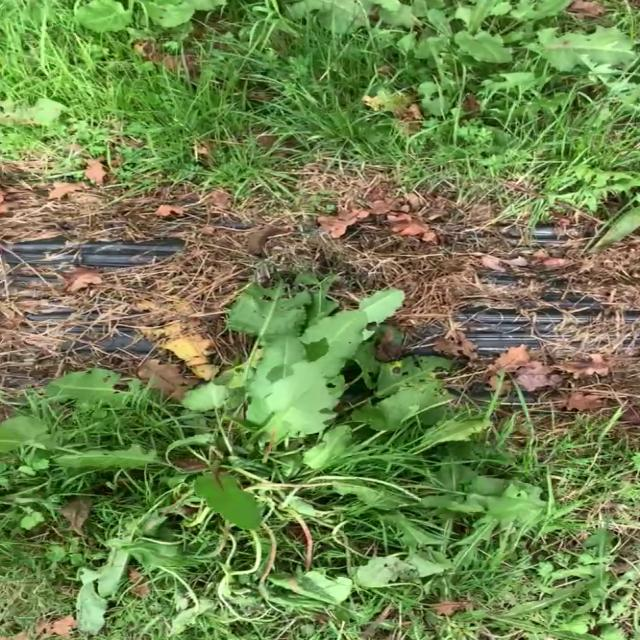organic waste: (17, 264, 536, 640), (276, 0, 640, 122), (0, 0, 274, 72)
